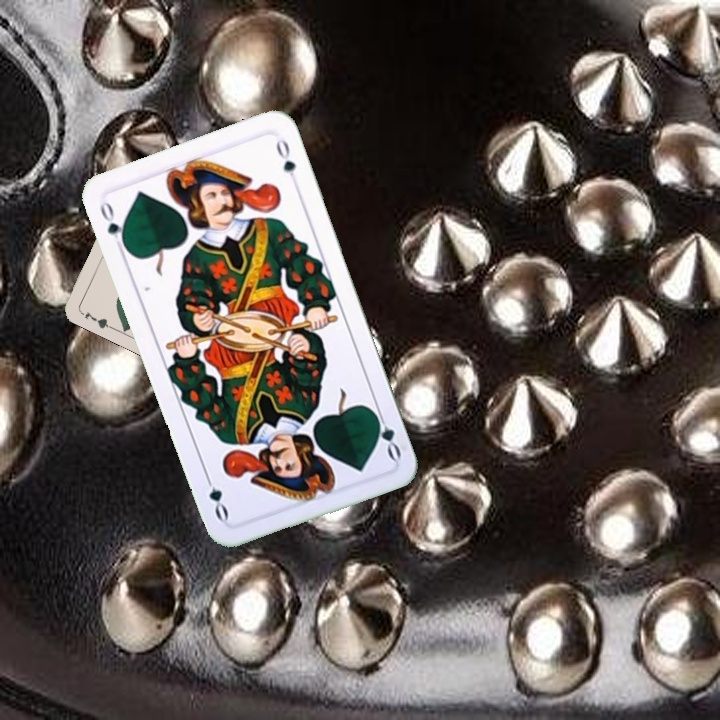G7: (76, 307, 114, 331)
GO: (368, 405, 404, 463), (96, 197, 130, 255)
